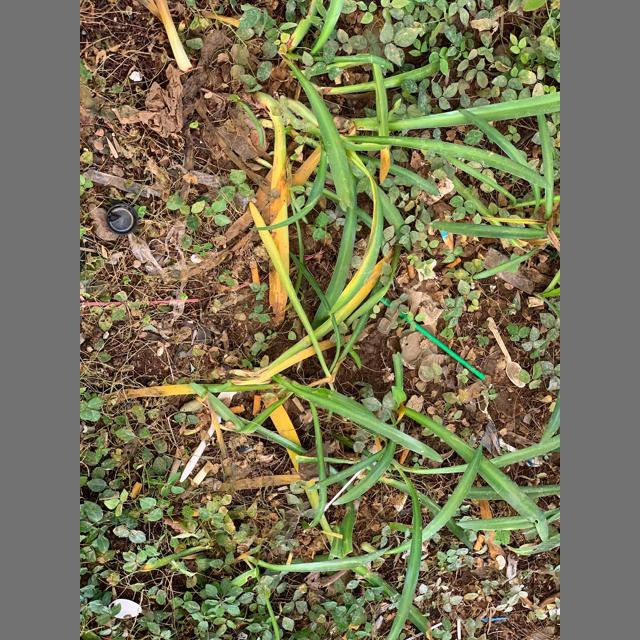litter: (379, 297, 486, 380), (111, 64, 184, 139), (180, 392, 237, 482), (237, 249, 326, 291), (325, 446, 377, 512), (479, 421, 542, 466), (486, 317, 526, 387), (483, 247, 534, 295), (84, 170, 150, 197), (128, 235, 162, 269), (84, 298, 199, 307), (106, 203, 138, 235), (376, 305, 398, 335), (406, 622, 443, 639), (191, 171, 229, 187), (110, 600, 141, 618), (405, 288, 422, 314), (233, 192, 257, 210), (438, 228, 454, 249), (442, 366, 455, 388), (129, 482, 144, 498), (291, 396, 304, 413), (444, 256, 462, 267), (474, 534, 485, 551), (253, 395, 262, 415), (252, 263, 260, 285), (229, 404, 244, 412), (407, 266, 414, 278), (457, 620, 461, 638)
